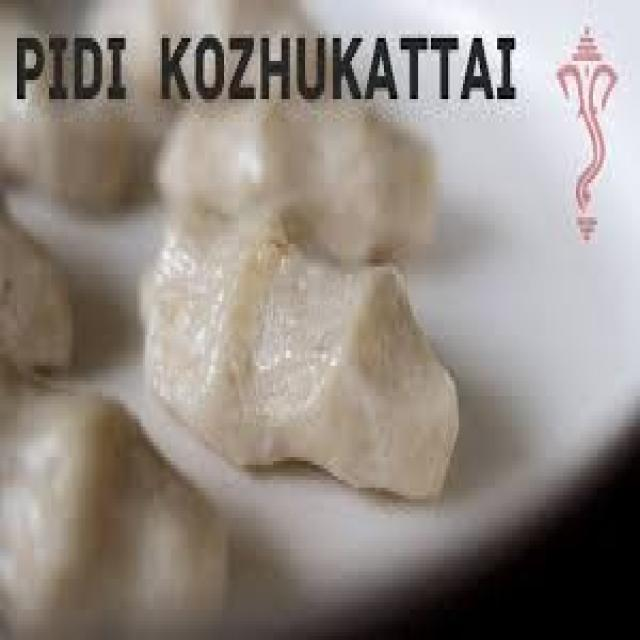pidi kolukattai: (148, 157, 454, 530)
